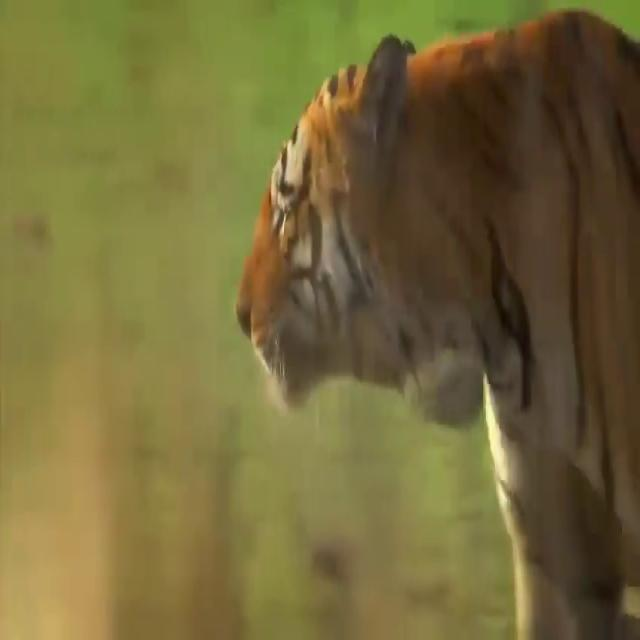tiger: (234, 9, 640, 639)
